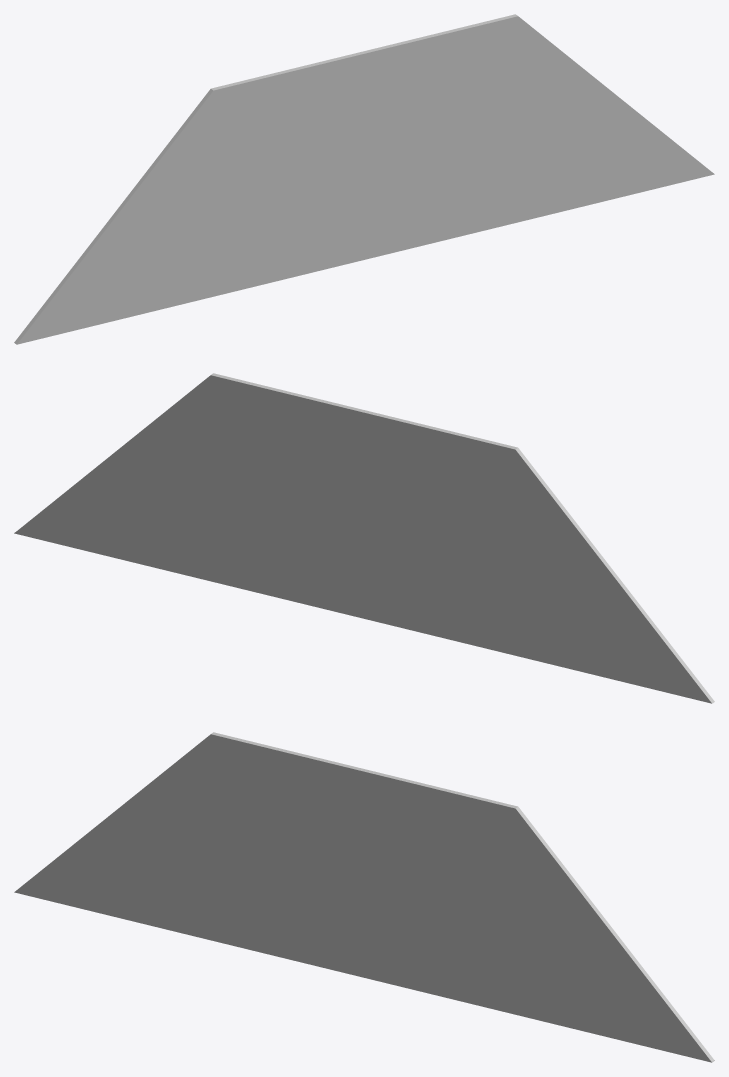
File: SM_MCJ_Gable01A.fbx
The picture shows the model from 3 angles, top to bottom: view 1: azimuth 30°, elevation 25°; view 2: azimuth 150°, elevation 25°; view 3: azimuth 330°, elevation 25°; orthographic projection.
Visible parts, largest first — view 1: SM_MCJ_Gable01A_ConvexHulls; view 2: SM_MCJ_Gable01A_ConvexHulls; view 3: SM_MCJ_Gable01A_ConvexHulls.
Boxes of the visible parts, left/top/right/bottom form: SM_MCJ_Gable01A_ConvexHulls: left=14, top=14, right=714, bottom=344; SM_MCJ_Gable01A_ConvexHulls: left=14, top=373, right=714, bottom=703; SM_MCJ_Gable01A_ConvexHulls: left=14, top=732, right=714, bottom=1062.
Size of the model in its own units: 615 by 4.17 by 173.
3 materials, 2 textured.
